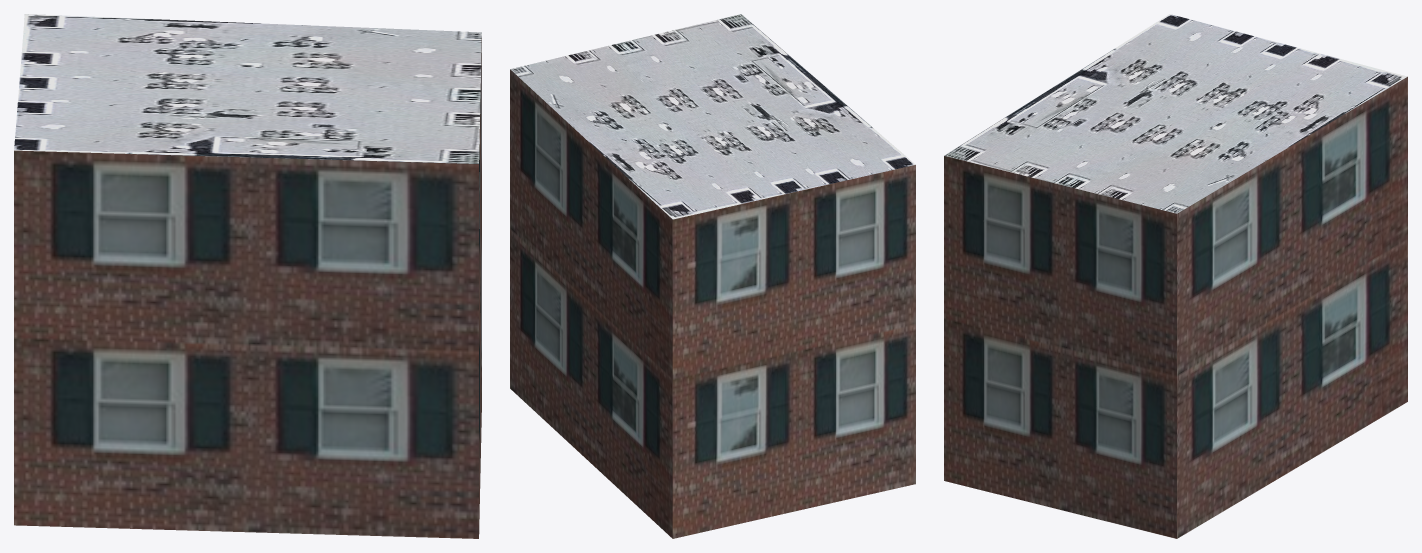
The model's file is ResTex__1046.fbx.
3 renders of one model, left to right at view 1: azimuth 30°, elevation 25°; view 2: azimuth 150°, elevation 25°; view 3: azimuth 270°, elevation 25°, orthographic. The views are drawn at different scales.
Parts seen in each view (by area): view 1: CityEngineMaterial_14_m, CityEngineMaterial_8_m; view 2: CityEngineMaterial_14_m, CityEngineMaterial_8_m; view 3: CityEngineMaterial_14_m, CityEngineMaterial_8_m.
Part boxes in pixels (left/top/right/bottom): CityEngineMaterial_14_m: left=14, top=38, right=481, bottom=538; CityEngineMaterial_8_m: left=14, top=14, right=481, bottom=163; CityEngineMaterial_14_m: left=510, top=69, right=915, bottom=538; CityEngineMaterial_8_m: left=510, top=14, right=915, bottom=219; CityEngineMaterial_14_m: left=944, top=77, right=1407, bottom=538; CityEngineMaterial_8_m: left=944, top=14, right=1407, bottom=213.
Bounding box in the file's own units: 7.91 × 6 × 7.76.
Materials: 2 (2 with a texture image).
